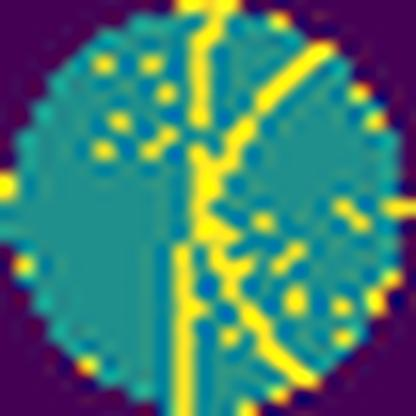Scratch: (169, 0, 340, 416)
